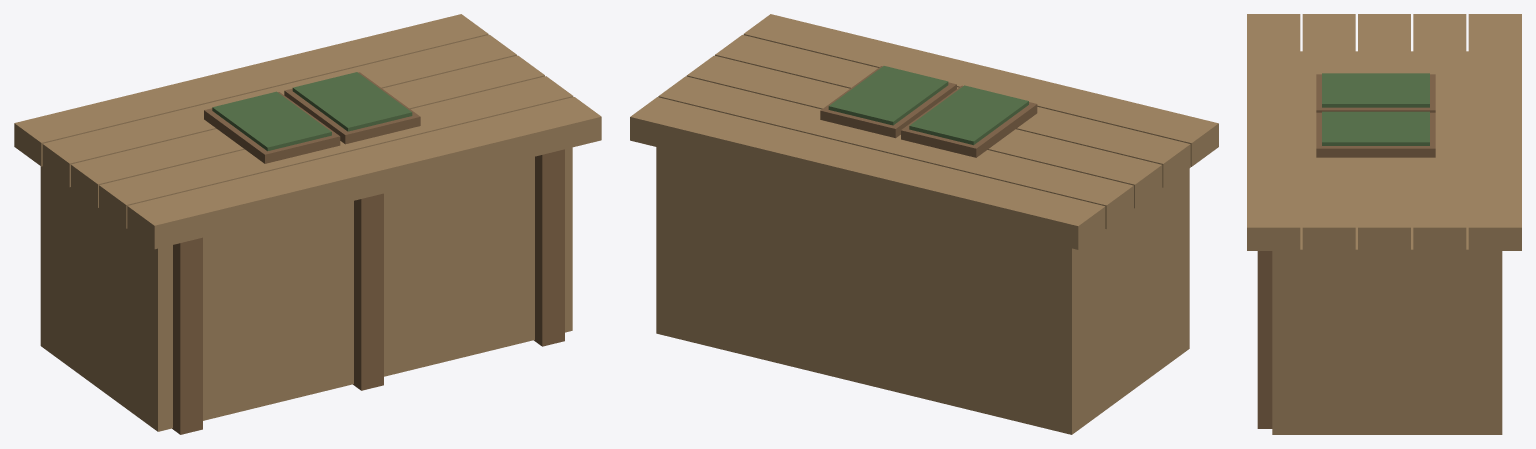
File: freight_table.glb
3 renders of one model, left to right at view 1: azimuth 30°, elevation 25°; view 2: azimuth 150°, elevation 25°; view 3: azimuth 270°, elevation 25°, orthographic. The views are drawn at different scales.
Visible parts, largest first — view 1: FreightTable; view 2: FreightTable; view 3: FreightTable.
Boxes of the visible parts, x1,y1,x2,y2 form: FreightTable: (14, 14, 601, 434); FreightTable: (630, 14, 1218, 434); FreightTable: (1247, 14, 1521, 434).
Bounding box in the file's own units: 1.78 × 0.8905 × 0.967.
